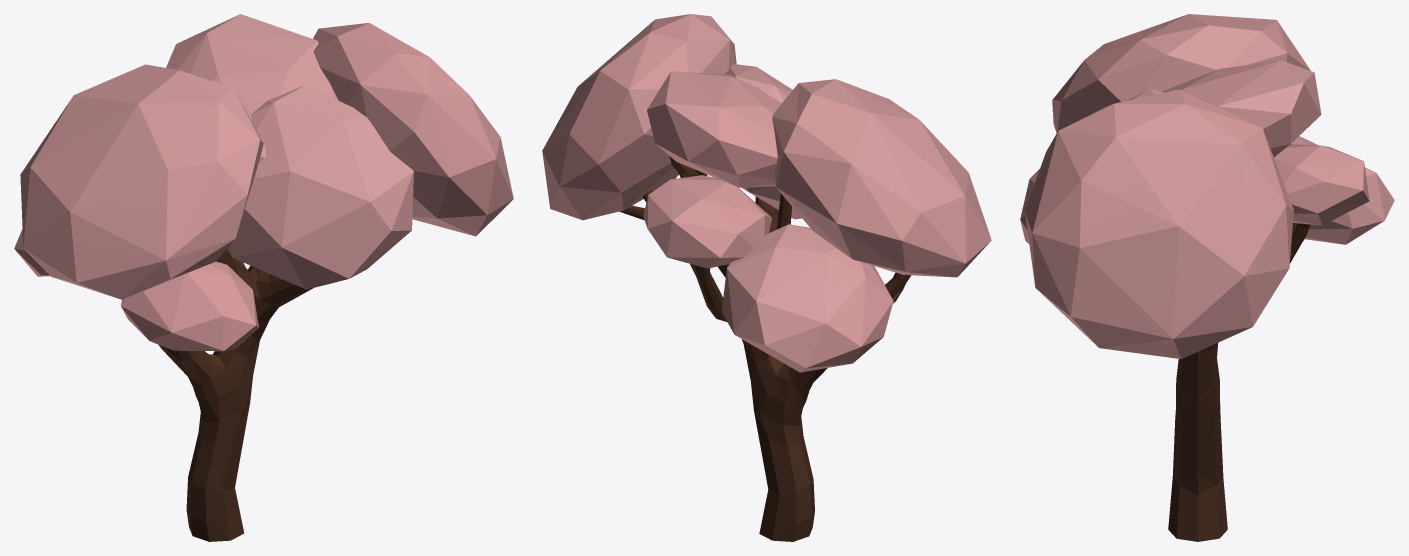
Rendered from 3Stad.fbx.
3 renders of one model, left to right at view 1: azimuth 30°, elevation 25°; view 2: azimuth 150°, elevation 25°; view 3: azimuth 270°, elevation 25°, orthographic. The views are drawn at different scales.
Visible parts, largest first — view 1: Cube.016; view 2: Cube.016; view 3: Cube.016.
Boxes of the visible parts, x1,y1,x2,y2 form: Cube.016: [14, 14, 513, 541]; Cube.016: [542, 14, 991, 541]; Cube.016: [1020, 14, 1394, 541].
Size of the model in its own units: 198 by 205 by 139.
